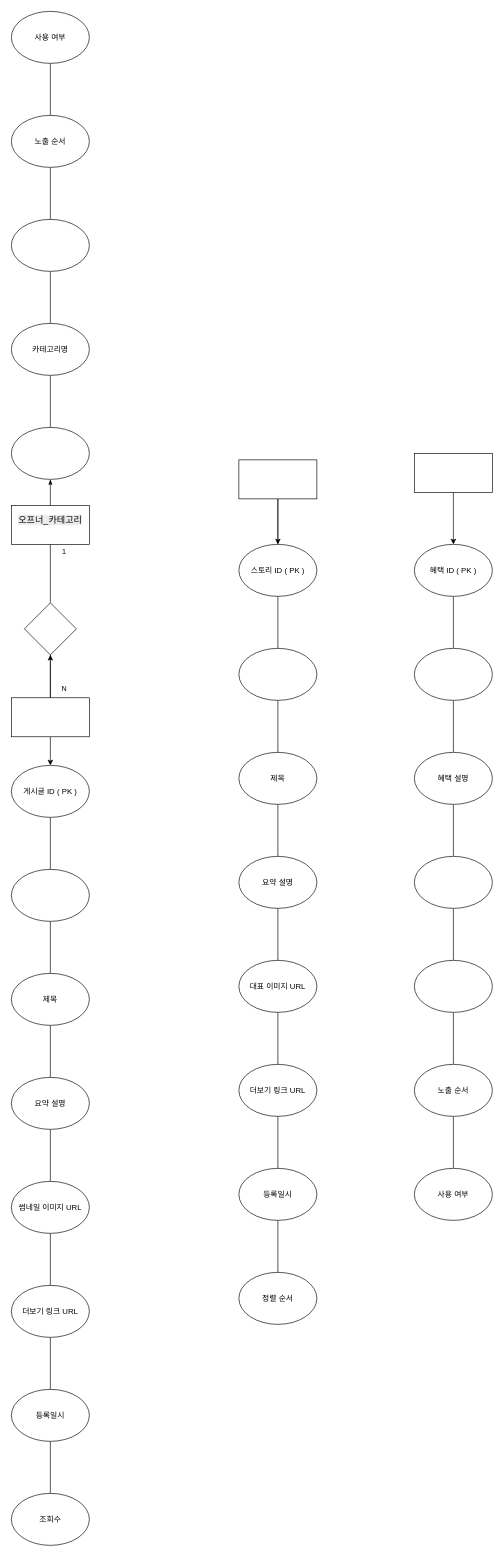
Some shapes in this 504 by 1557 pixel diagram are drawn without their labels. The centre of each missing label's shape, as x and y in pixels:
"링크 URL" belongs at point 453,986.
"섹션 구분" belongs at point 277,674.
"섹션 제목" belongs at point 50,245.
"소속" belongs at point 50,628.
"오프너_게시글" belongs at point 50,717.
"카테고리 ID ( FK )" belongs at point 50,895.
"카테고리 ID ( PK )" belongs at point 50,453.
"코크플레이_혜택" belongs at point 453,472.
"크리에이션_스토리" belongs at point 277,479.
"혜택 이미지 URL" belongs at point 453,882.
"혜택 제목" belongs at point 453,674.
